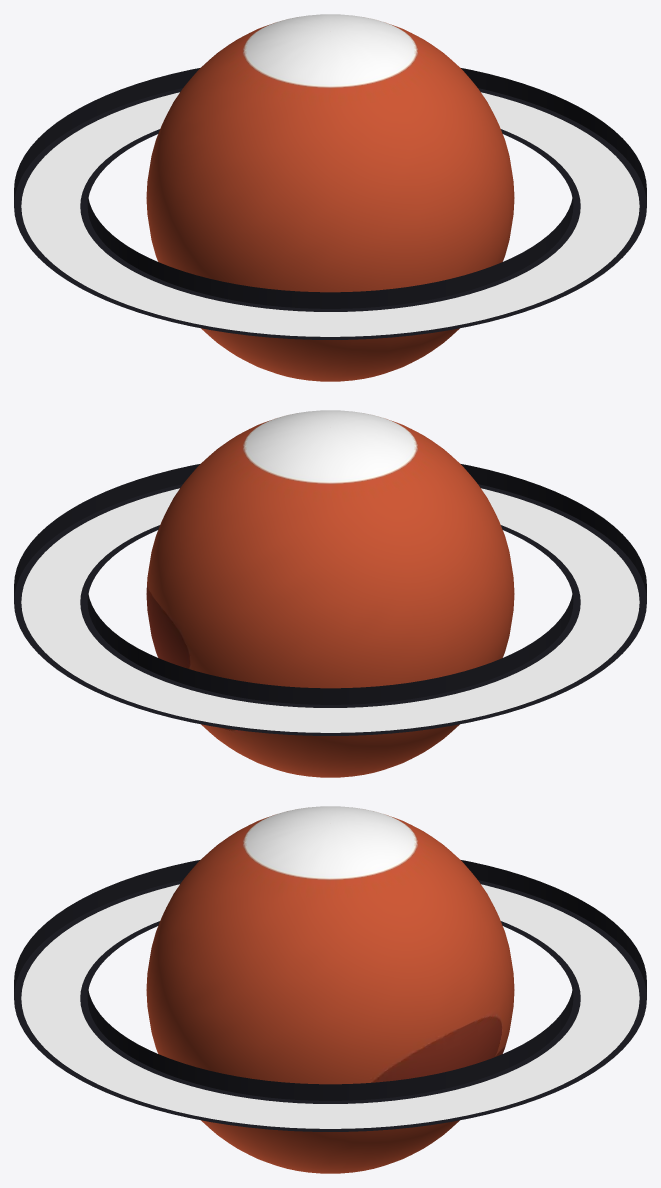
Rendered from ball_mars.glb.
The picture shows the model from 3 angles, top to bottom: view 1: azimuth 30°, elevation 25°; view 2: azimuth 150°, elevation 25°; view 3: azimuth 270°, elevation 25°; orthographic projection.
Visible parts, largest first — view 1: ball_mars, ring; view 2: ball_mars, ring; view 3: ball_mars, ring.
Part boxes in pixels (box(x1,y1,x2,y2)): ball_mars: box(146, 14, 514, 381); ring: box(14, 68, 646, 339); ball_mars: box(146, 410, 514, 777); ring: box(14, 464, 646, 735); ball_mars: box(146, 806, 514, 1173); ring: box(14, 860, 646, 1131).
Size of the model in its own units: 1.72 by 1 by 1.72.
2 materials, 1 textured.
